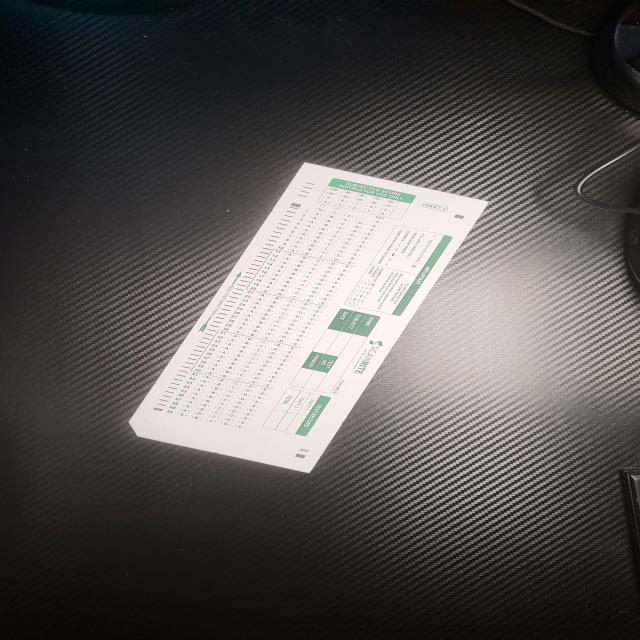scantron: (128, 161, 492, 475)
